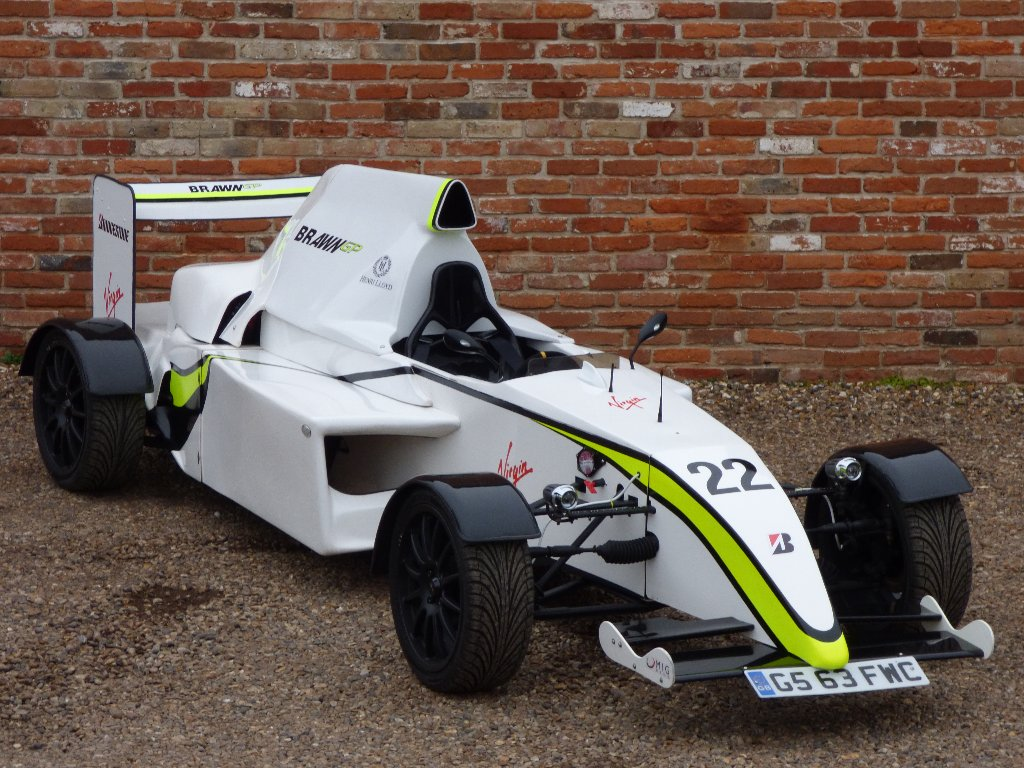f1_car: (25, 155, 1008, 741)
